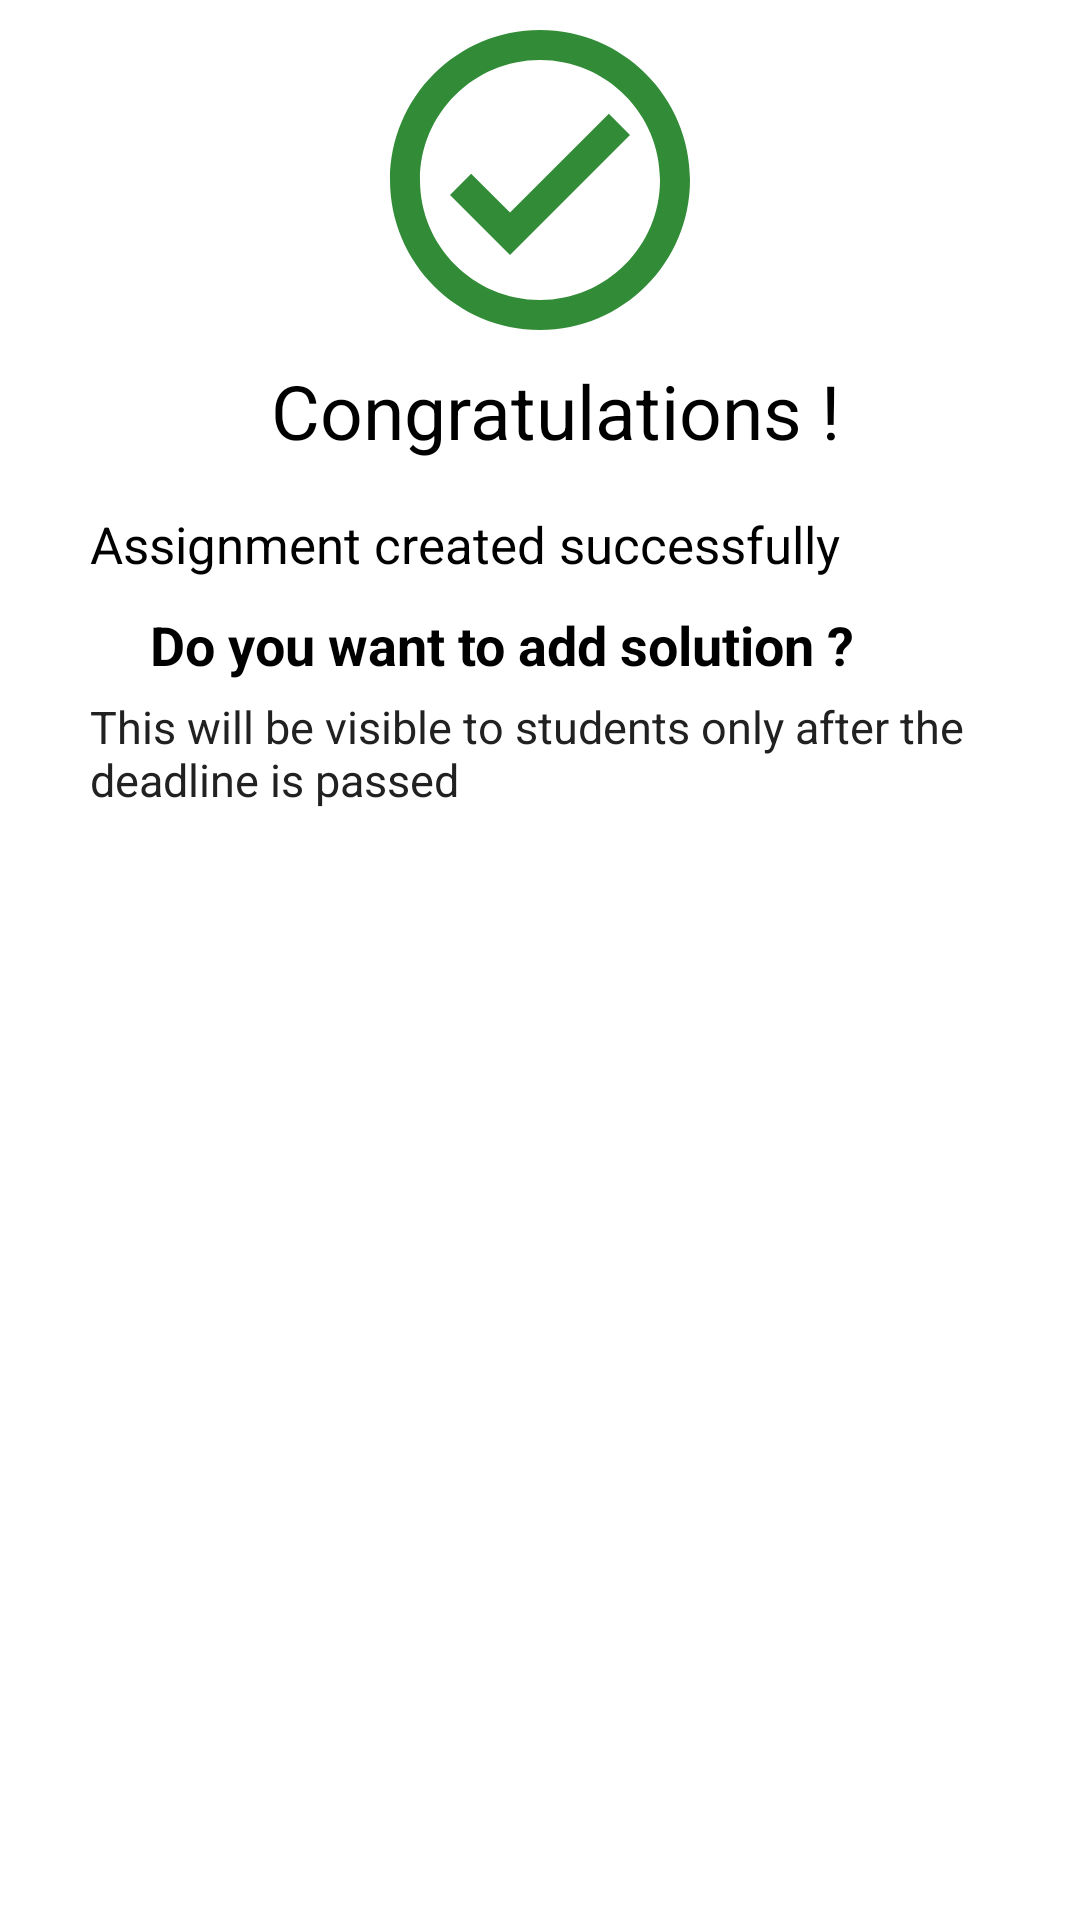

Screen size 1080*1920. Icon name, then its center in pixels as (x=x, y=y):
check circle: (x=540, y=180)
